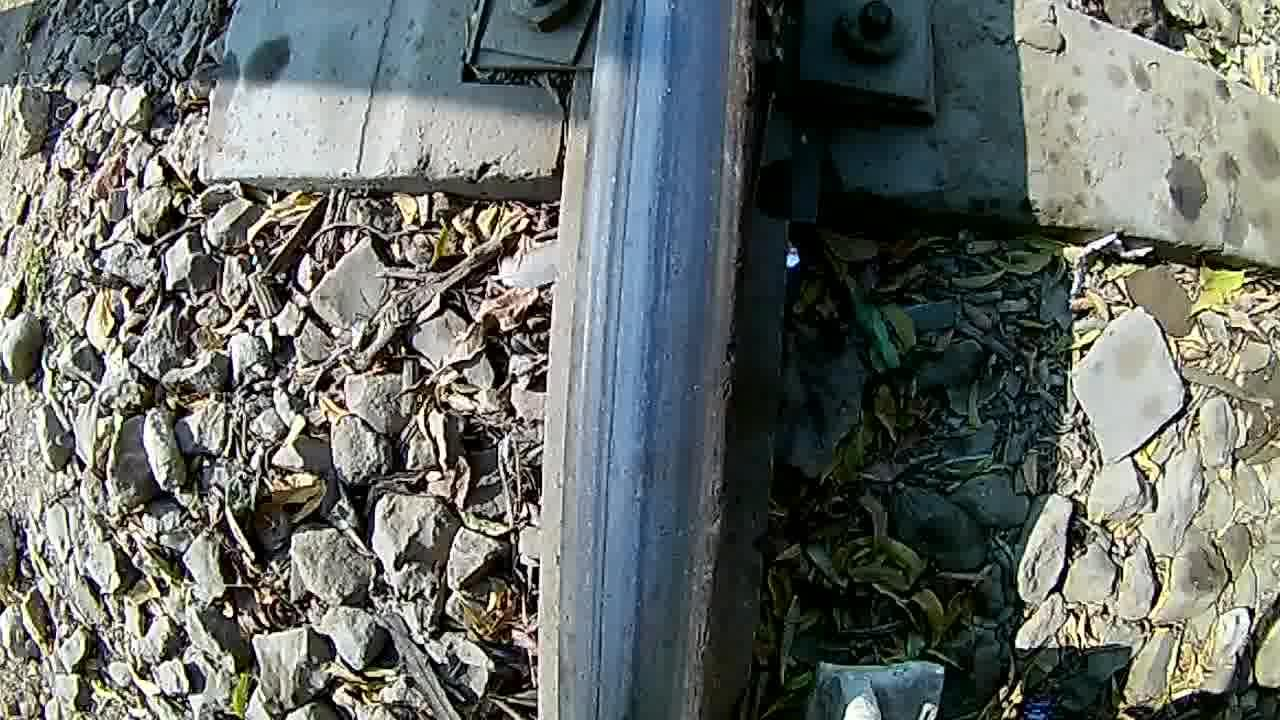clip_missing: (542, 2, 758, 720)
